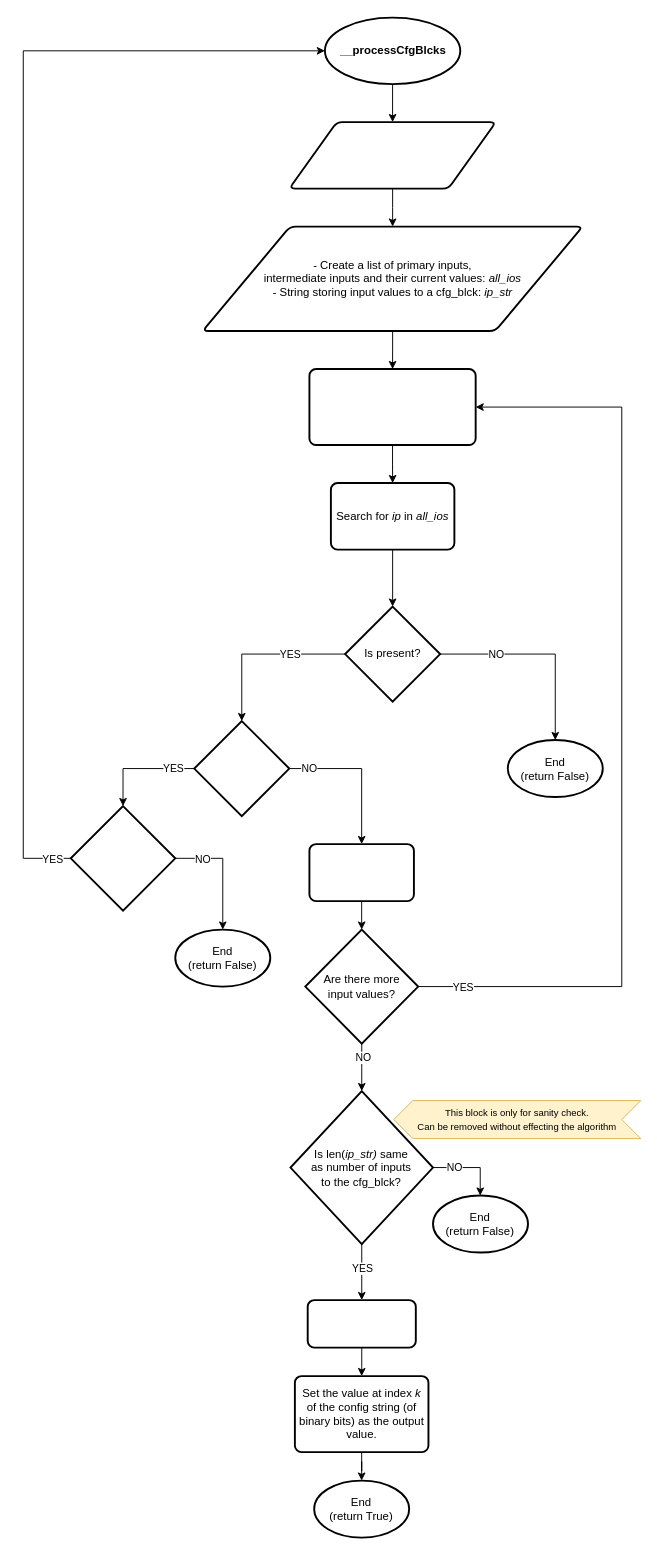
The diagram is 657 pixels wide and 1554 high, and some of its shapes have lost their labels. Each missing label, with the centre of its shape:
"Append the input value to ip_str" belongs at (361,872).
"Convert ip_str into integer ( k )" belongs at (361,1323).
"Get a cfg_blck's ID: cfg_id" belongs at (392,155).
"Is bit value of ip None?" belongs at (241,768).
"Is ip not a primary input?" belongs at (122,858).
"Take a new input( ip ) from the set of inputs for the cfg_id cfg_blck" belongs at (392,407).
